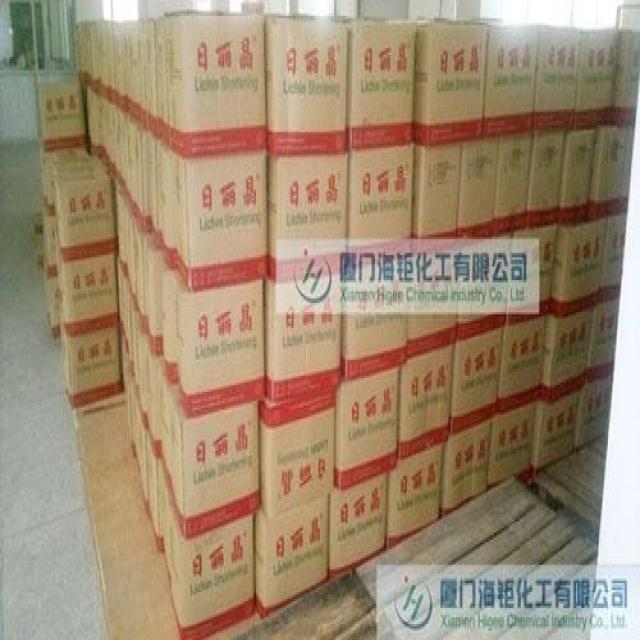box: (164, 13, 266, 157), (172, 150, 268, 293), (174, 272, 265, 419), (171, 394, 260, 539), (265, 14, 349, 155), (399, 20, 488, 146), (335, 18, 417, 153), (169, 512, 254, 638), (267, 152, 347, 283), (263, 274, 341, 406), (260, 387, 335, 518), (255, 496, 329, 620), (341, 256, 407, 381), (347, 146, 414, 268), (335, 365, 400, 490), (473, 20, 540, 137), (329, 471, 387, 583), (399, 346, 453, 460), (456, 234, 512, 341), (407, 247, 459, 360), (411, 142, 462, 257), (53, 171, 116, 262), (450, 326, 502, 436), (388, 444, 443, 547), (549, 219, 606, 318), (540, 305, 595, 403), (57, 250, 118, 337), (60, 323, 122, 407), (507, 224, 558, 324), (440, 419, 492, 517), (534, 28, 581, 131), (498, 317, 546, 417), (459, 135, 499, 244), (488, 401, 537, 489), (492, 132, 533, 236), (575, 30, 618, 129), (531, 389, 581, 473), (558, 129, 597, 226), (527, 130, 565, 229), (590, 127, 628, 220), (36, 82, 86, 152), (586, 300, 620, 385), (575, 377, 614, 449), (614, 29, 639, 126), (601, 216, 627, 305)
